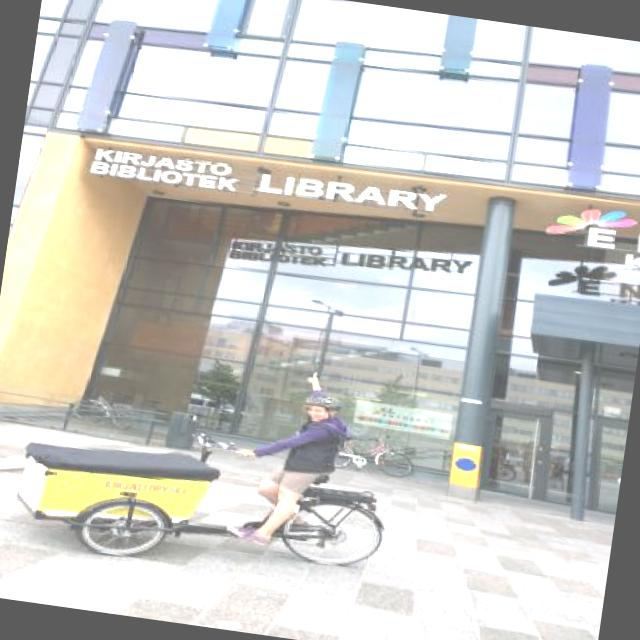Person: (211, 362, 348, 552)
